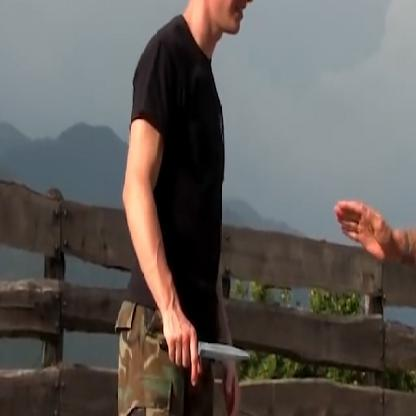knife: (154, 318, 262, 376)
